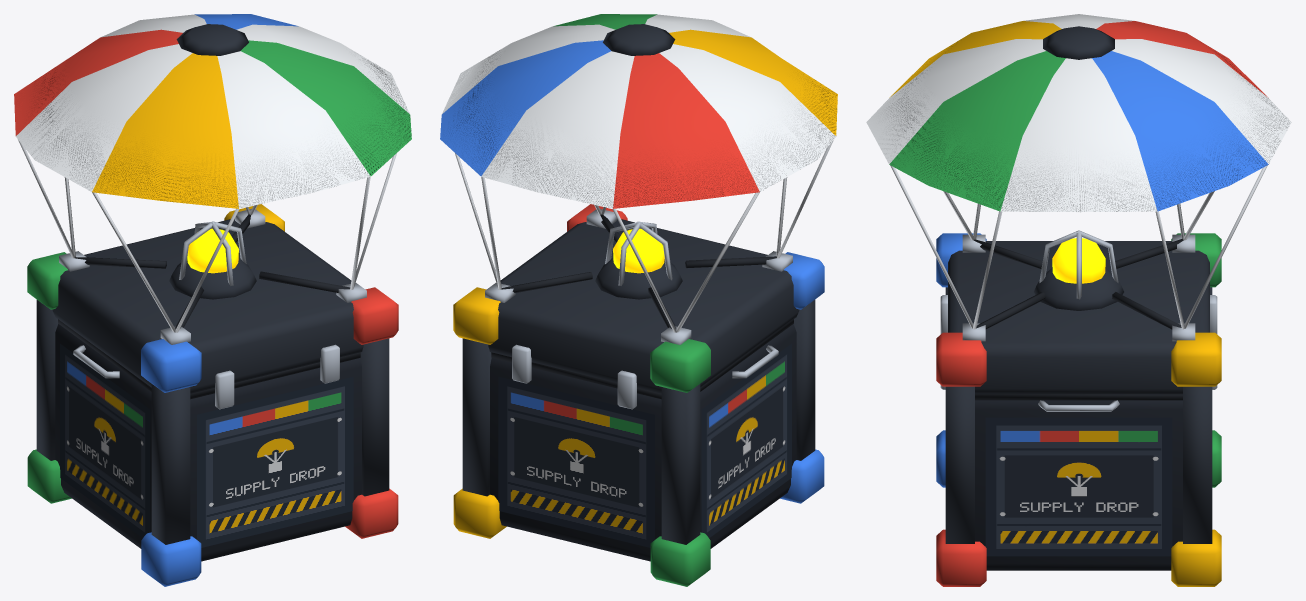
Rendered from prop_supply_drop.glb.
The picture shows the model from 3 angles, left to right: view 1: azimuth 30°, elevation 25°; view 2: azimuth 150°, elevation 25°; view 3: azimuth 270°, elevation 25°; orthographic projection. The views are drawn at different scales.
Visible parts, largest first — view 1: ParachuteCanopy, CrateUpperLid, StencilPanel_Front, StencilPanel_Left, CrateLowerHull, CornerPillar_0, CornerPillar_1, CornerPillar_3, CornerBumperTop_0, CornerBumperBot_0, CornerBumperTop_1, BeaconTurretBase (+13 smaller); view 2: ParachuteCanopy, CrateUpperLid, StencilPanel_Back, StencilPanel_Left, CrateLowerHull, CornerPillar_3, CornerPillar_2, CornerPillar_0, CornerBumperTop_3, CornerBumperBot_3, CornerBumperTop_2, BeaconTurretBase (+13 smaller); view 3: ParachuteCanopy, CrateUpperLid, StencilPanel_Right, CrateLowerHull, CornerPillar_1, CornerPillar_2, CornerBumperTop_1, CornerBumperTop_2, CornerBumperBot_1, CornerBumperBot_2, BeaconTurretBase, CanopyApexCap (+12 smaller).
Boxes of the visible parts, left/top/right/bottom form: ParachuteCanopy: left=14, top=14, right=411, bottom=208; CrateUpperLid: left=52, top=219, right=363, bottom=393; StencilPanel_Front: left=197, top=376, right=353, bottom=547; StencilPanel_Left: left=60, top=343, right=150, bottom=537; CrateLowerHull: left=55, top=324, right=361, bottom=561; CornerPillar_0: left=151, top=384, right=190, bottom=544; CornerPillar_1: left=360, top=338, right=389, bottom=496; CornerPillar_3: left=36, top=300, right=57, bottom=460; CornerBumperTop_0: left=141, top=339, right=201, bottom=392; CornerBumperBot_0: left=141, top=532, right=201, bottom=586; CornerBumperTop_1: left=351, top=287, right=398, bottom=344; BeaconTurretBase: left=169, top=258, right=256, bottom=299; ParachuteCanopy: left=440, top=14, right=837, bottom=208; CrateUpperLid: left=488, top=219, right=799, bottom=393; StencilPanel_Back: left=498, top=376, right=654, bottom=547; StencilPanel_Left: left=701, top=343, right=791, bottom=537; CrateLowerHull: left=490, top=324, right=796, bottom=561; CornerPillar_3: left=661, top=384, right=700, bottom=544; CornerPillar_2: left=462, top=338, right=491, bottom=496; CornerPillar_0: left=794, top=300, right=815, bottom=460; CornerBumperTop_3: left=650, top=339, right=710, bottom=392; CornerBumperBot_3: left=650, top=532, right=710, bottom=586; CornerBumperTop_2: left=453, top=287, right=500, bottom=344; BeaconTurretBase: left=595, top=258, right=682, bottom=299; ParachuteCanopy: left=866, top=14, right=1291, bottom=212; CrateUpperLid: left=948, top=241, right=1209, bottom=394; StencilPanel_Right: left=985, top=417, right=1172, bottom=556; CrateLowerHull: left=975, top=400, right=1182, bottom=570; CornerPillar_1: left=945, top=386, right=974, bottom=543; CornerPillar_2: left=1183, top=386, right=1212, bottom=543; CornerBumperTop_1: left=936, top=332, right=986, bottom=386; CornerBumperTop_2: left=1171, top=332, right=1221, bottom=386; CornerBumperBot_1: left=936, top=529, right=986, bottom=586; CornerBumperBot_2: left=1171, top=529, right=1221, bottom=586; BeaconTurretBase: left=1034, top=268, right=1123, bottom=310; CanopyApexCap: left=1043, top=26, right=1114, bottom=59.
Bounding box in the file's own units: 2.03 × 2.6 × 2.03.
Materials: 12 (1 with a texture image).
